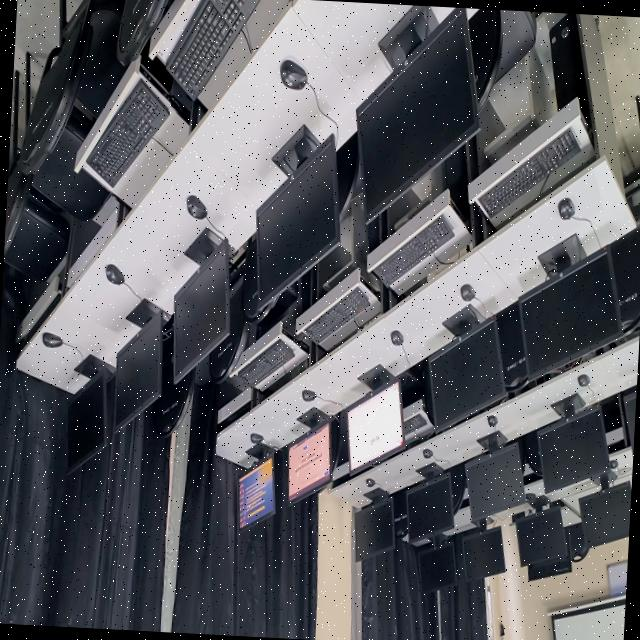Chair: (3, 71, 109, 280), (21, 0, 127, 173), (467, 8, 535, 110), (3, 194, 69, 280), (153, 318, 194, 436), (208, 284, 248, 382), (608, 224, 640, 331), (116, 0, 166, 65), (243, 233, 277, 322), (496, 302, 528, 391), (335, 131, 357, 214), (565, 522, 588, 560)
Cpu: (548, 13, 590, 128)
Keyboard: (165, 0, 258, 99), (480, 127, 579, 218), (86, 78, 168, 185), (371, 214, 453, 285), (303, 286, 369, 342), (237, 339, 293, 386), (403, 412, 426, 439)
Monitor: (355, 7, 478, 221), (254, 125, 339, 306), (517, 248, 622, 378), (427, 318, 506, 429), (173, 237, 229, 378), (535, 403, 610, 492), (114, 310, 164, 431), (66, 354, 114, 474), (464, 431, 525, 519), (347, 379, 403, 471), (287, 417, 338, 504), (578, 465, 631, 548), (511, 493, 565, 565), (405, 462, 452, 544), (353, 487, 394, 561), (238, 455, 274, 529), (461, 526, 504, 580), (527, 539, 571, 581), (418, 542, 455, 591), (622, 390, 636, 457)
Mouse: (279, 59, 306, 89), (185, 195, 206, 219), (104, 264, 123, 284), (557, 197, 574, 219), (42, 332, 62, 347), (460, 284, 474, 301), (390, 330, 402, 345), (301, 389, 315, 401), (577, 373, 589, 386), (249, 433, 263, 444), (486, 415, 497, 426), (422, 448, 432, 458), (365, 477, 374, 487), (609, 458, 617, 467)
